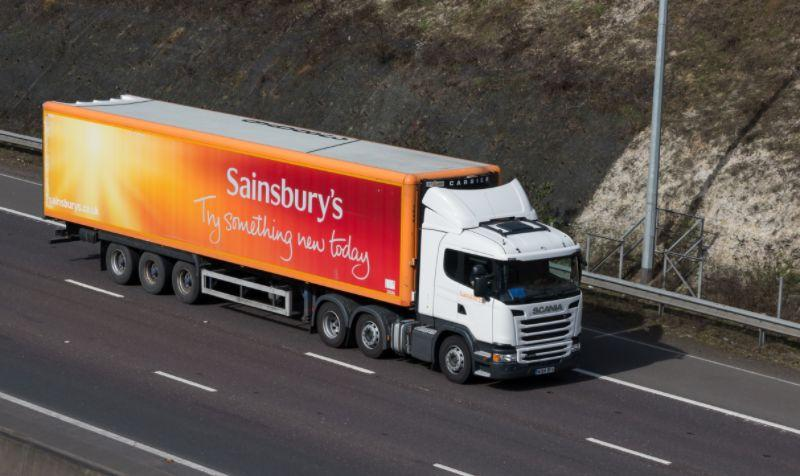truck: (42, 93, 586, 386)
